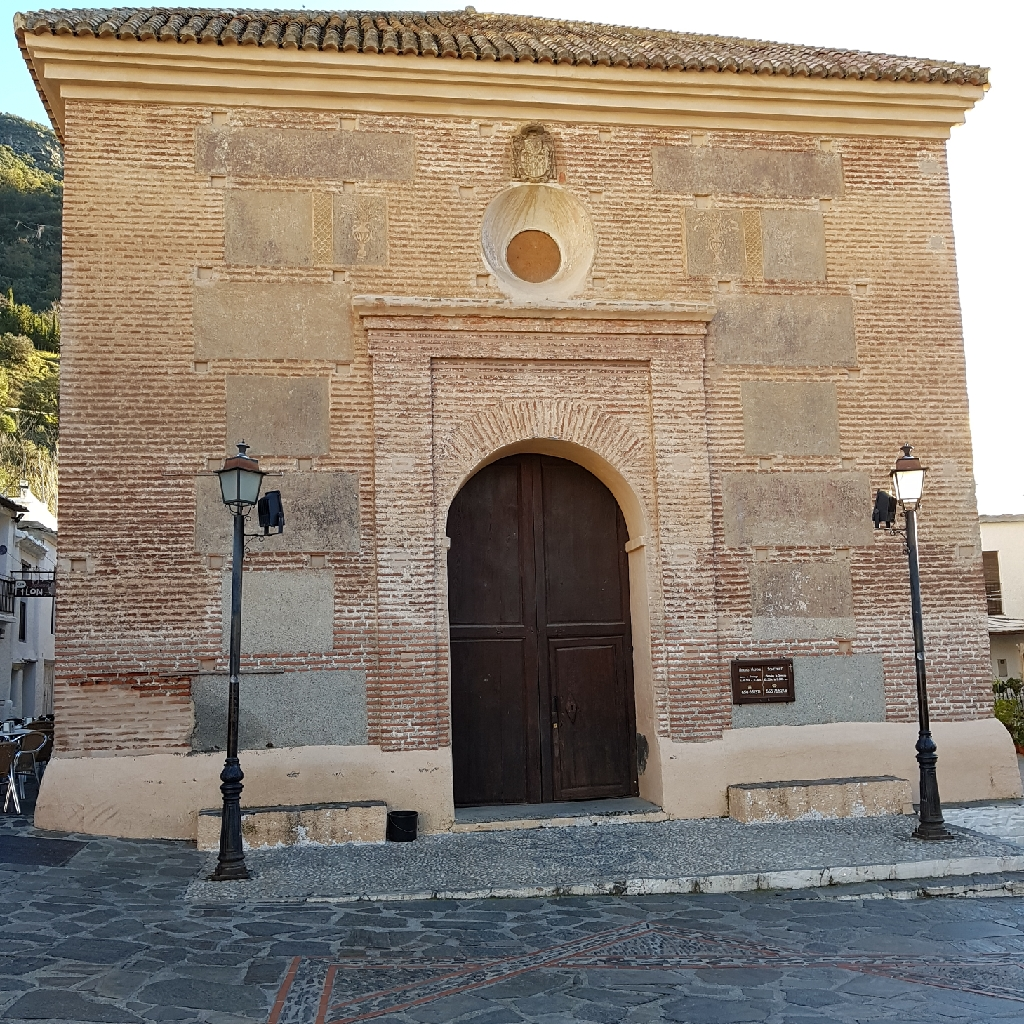arco-medio-punto: (436, 428, 649, 570)
ojo-de-buey: (485, 189, 596, 296)
